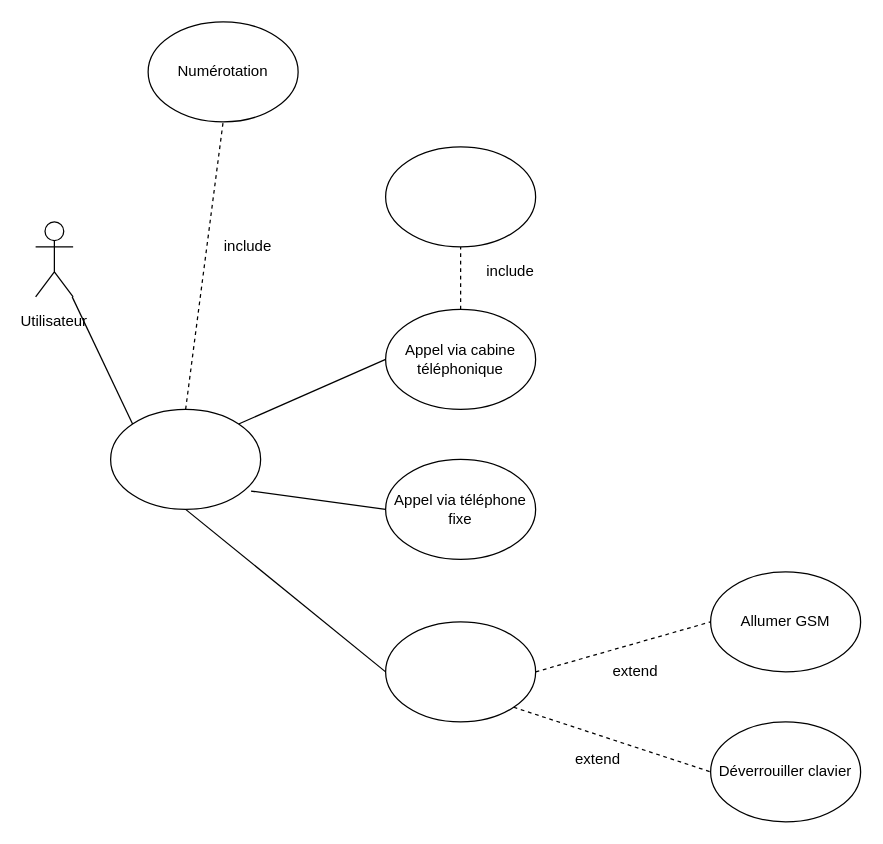
Some shapes in this 883 by 844 pixel diagram are drawn without their labels. The centre of each missing label's shape, as x and y in pixels:
"Appel via GSM" belongs at (460,671).
"Insertion de carte téléphonique" belongs at (460,196).
"Émettre appel" belongs at (185,458).
